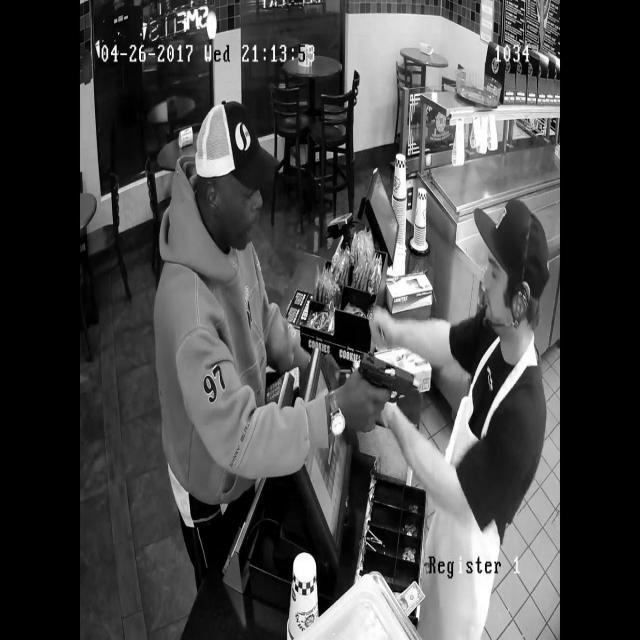Gun: (338, 342, 428, 418)
